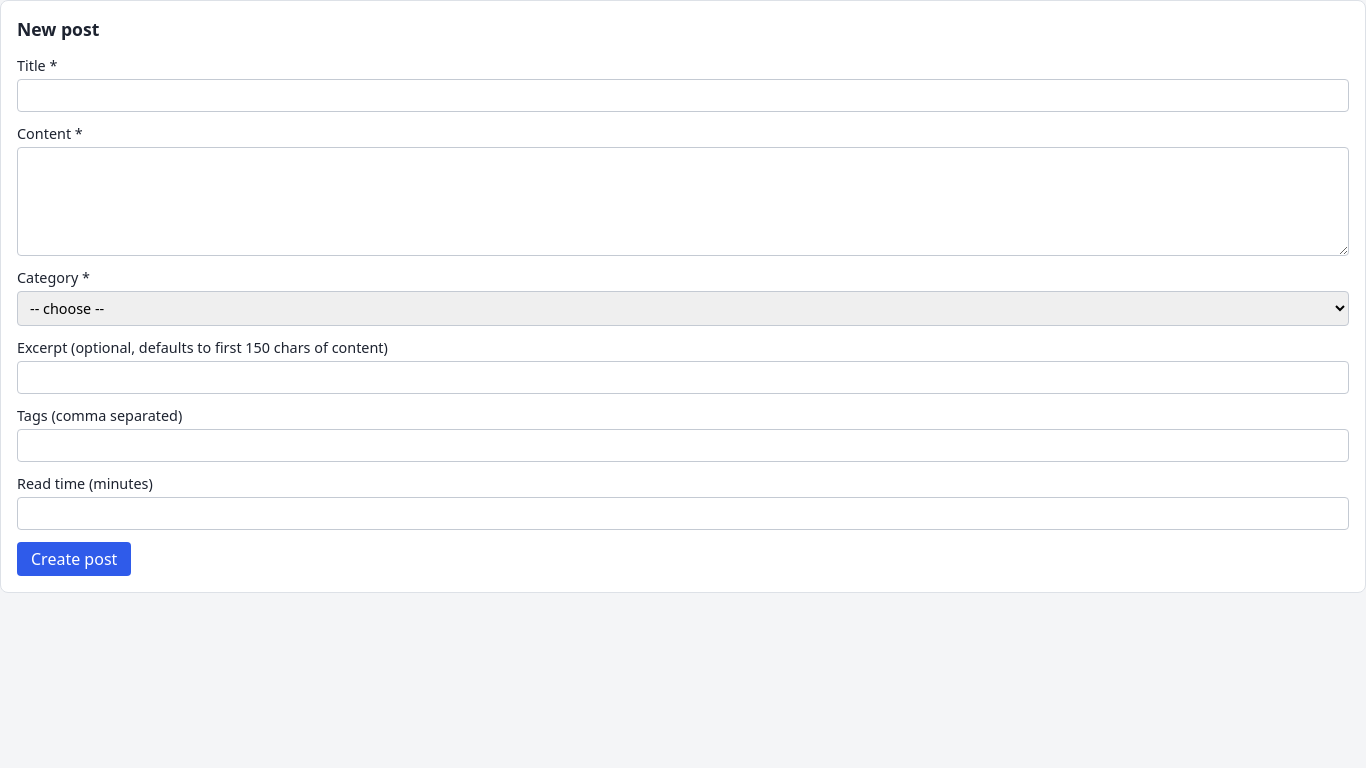
PostForm › shows the server error message and field errors
Click the button "Create post" at x=74, y=559, box [17,542,131,576]
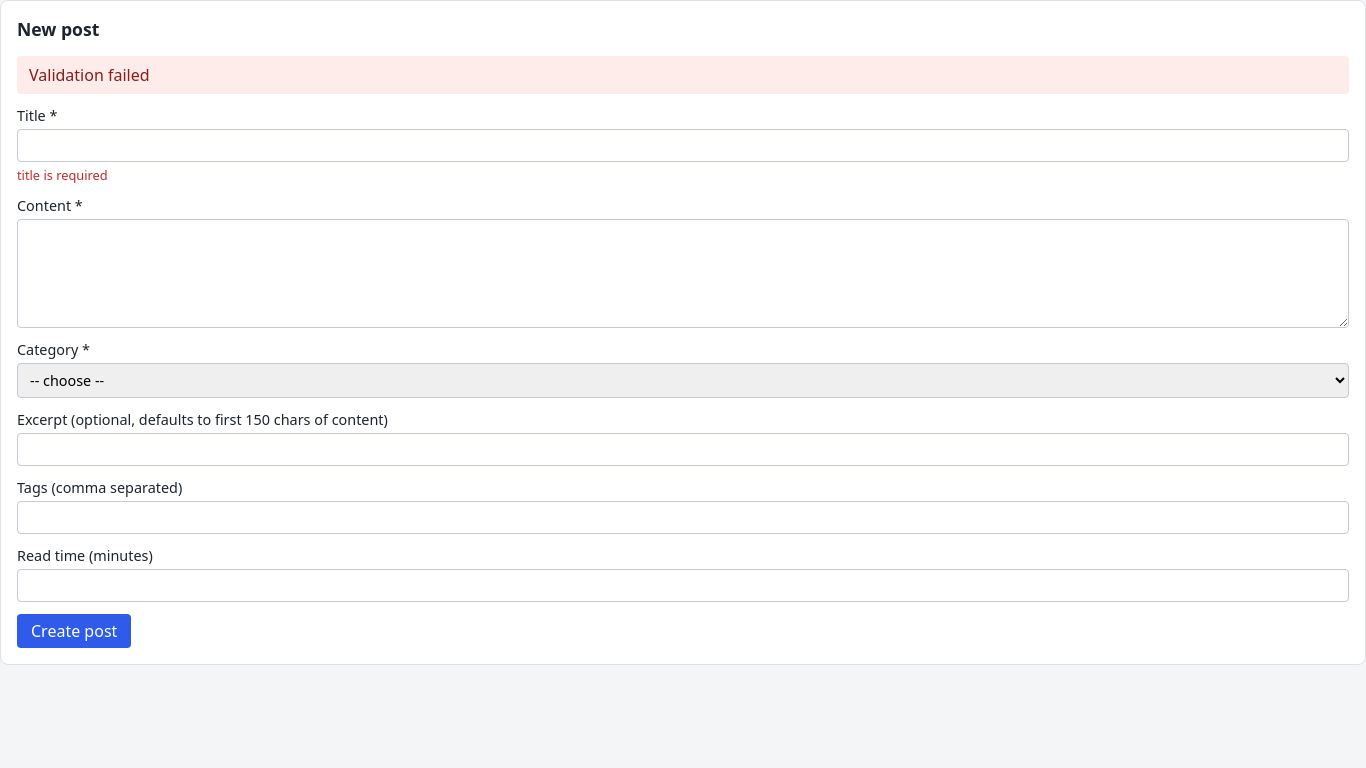
expect the message reads "Validation failed": met, box [29,64,150,86]
expect the text "title is required" is shown: met, box [17,166,108,184]
